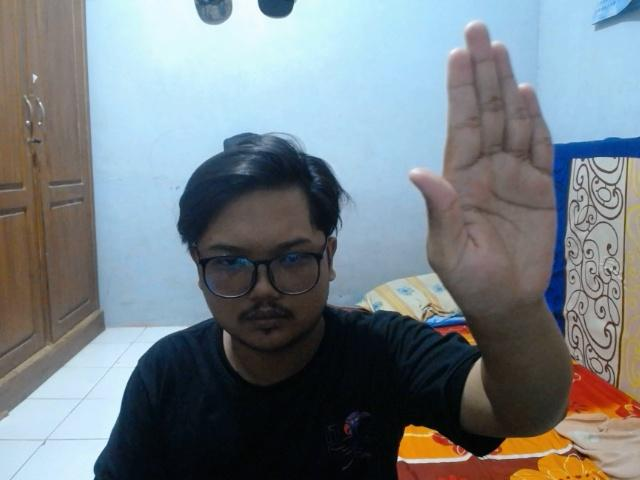Release: (402, 17, 561, 318)
